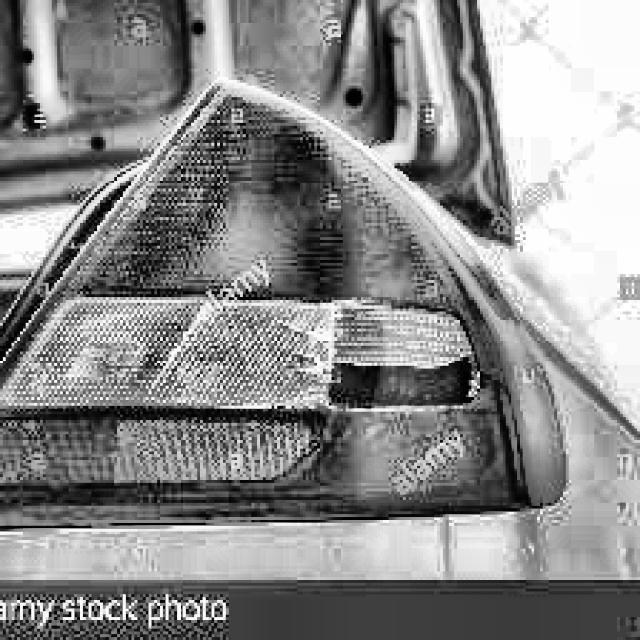tail_lamp: (300, 303, 489, 415)
